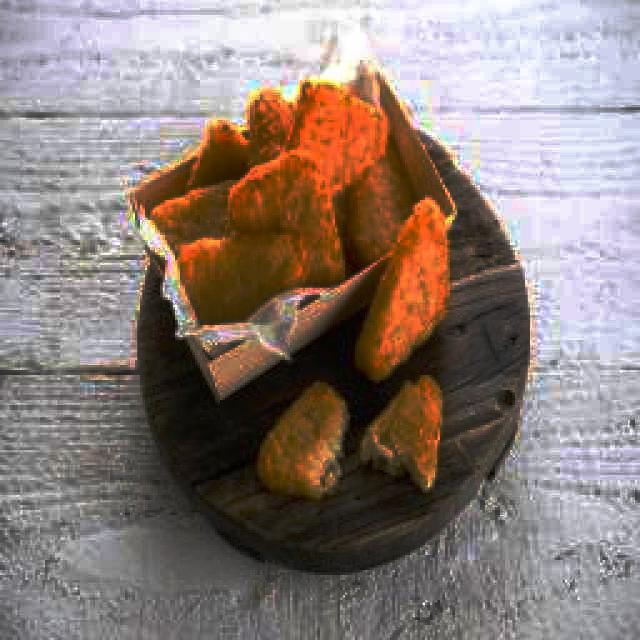Hashbrown: (357, 197, 452, 382), (228, 151, 346, 282), (173, 232, 307, 323), (286, 82, 390, 188), (260, 381, 348, 500), (361, 376, 445, 492), (148, 179, 235, 248), (187, 123, 247, 187), (249, 90, 293, 159)
